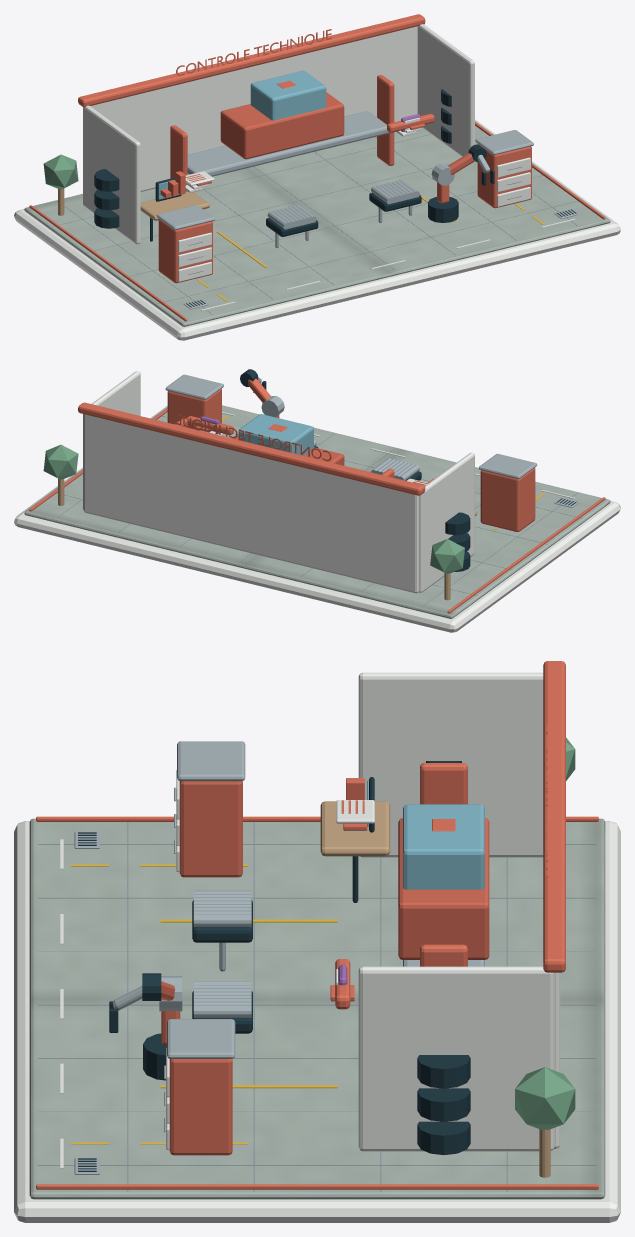
Rendered from cerfa.glb.
3 renders of one model, top to bottom at view 1: azimuth 30°, elevation 25°; view 2: azimuth 150°, elevation 25°; view 3: azimuth 270°, elevation 25°, orthographic. The views are drawn at different scales.
Visible parts, largest first — view 1: Activity ground, StaticWorkshop_0, StaticWorkshop_1, StaticWorkshop_2, Inspected vehicle, StaticWorkshop_4, Vehicle cabin, StaticWorkshop_6, StaticWorkshop_3, StaticWorkshop_8, Scanner mounting; view 2: StaticWorkshop_0, Activity ground, StaticWorkshop_1, StaticWorkshop_2, Vehicle cabin, StaticWorkshop_8, StaticWorkshop_4, StaticWorkshop_6, StaticWorkshop_3, Inspected vehicle, Scanner joint; view 3: Activity ground, StaticWorkshop_0, StaticWorkshop_1, StaticWorkshop_4, StaticWorkshop_2, Vehicle cabin, Inspected vehicle, StaticWorkshop_6, StaticWorkshop_3, StaticWorkshop_8, StaticWorkshop_7, Scanner mounting (+3 smaller).
Boxes of the visible parts, <box> form: Activity ground: <box>24,121,610,326</box>; StaticWorkshop_0: <box>14,24,620,340</box>; StaticWorkshop_1: <box>29,14,605,321</box>; StaticWorkshop_2: <box>156,111,578,309</box>; Inspected vehicle: <box>220,92,344,159</box>; StaticWorkshop_4: <box>94,89,576,307</box>; Vehicle cabin: <box>250,70,326,120</box>; StaticWorkshop_6: <box>52,134,582,314</box>; StaticWorkshop_3: <box>58,188,209,220</box>; StaticWorkshop_8: <box>43,154,78,189</box>; Scanner mounting: <box>428,197,458,222</box>; StaticWorkshop_0: <box>14,371,620,632</box>; Activity ground: <box>24,405,610,618</box>; StaticWorkshop_1: <box>29,388,605,613</box>; StaticWorkshop_2: <box>165,374,578,507</box>; Vehicle cabin: <box>238,414,313,455</box>; StaticWorkshop_8: <box>43,444,464,573</box>; StaticWorkshop_4: <box>314,446,576,571</box>; StaticWorkshop_6: <box>57,416,582,606</box>; StaticWorkshop_3: <box>58,478,477,600</box>; Inspected vehicle: <box>234,435,344,465</box>; Scanner joint: <box>261,396,284,416</box>; Activity ground: <box>29,818,605,1199</box>; StaticWorkshop_0: <box>14,672,620,1222</box>; StaticWorkshop_1: <box>36,661,598,1189</box>; StaticWorkshop_4: <box>78,761,470,1171</box>; StaticWorkshop_2: <box>74,741,484,1174</box>; Vehicle cabin: <box>403,804,484,889</box>; Inspected vehicle: <box>398,818,489,959</box>; StaticWorkshop_6: <box>38,822,596,1191</box>; StaticWorkshop_3: <box>320,801,550,1177</box>; StaticWorkshop_8: <box>515,737,575,1129</box>; StaticWorkshop_7: <box>71,864,337,1144</box>; Scanner mounting: <box>143,1033,166,1080</box>.
Size of the model in its own units: 7.3 by 2.11 by 4.8.
18 materials, 1 textured.
